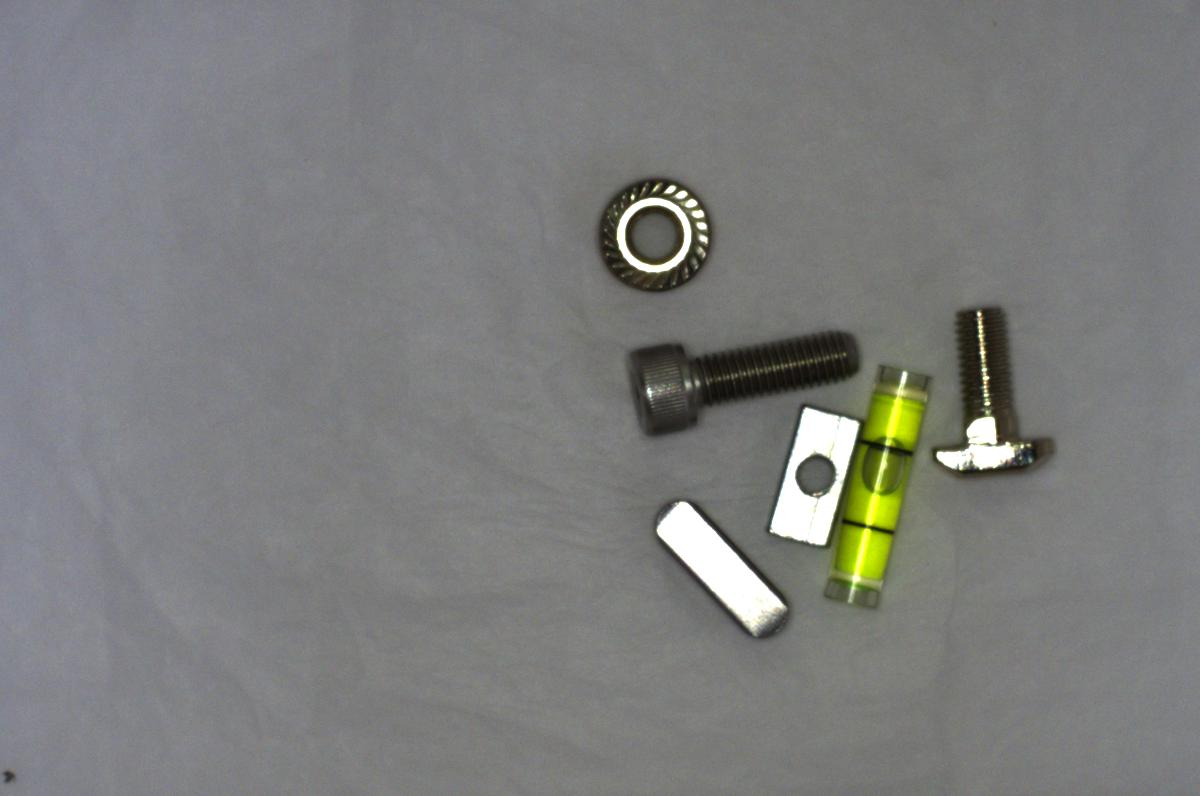Flange nut: (589, 168, 723, 300)
Hexagon screw: (615, 305, 860, 433)
Horizontal bubble: (824, 351, 932, 618)
Keybar: (646, 494, 802, 649)
Rectangular nut: (751, 400, 864, 553)
T-shaped screw: (932, 301, 1062, 485)
